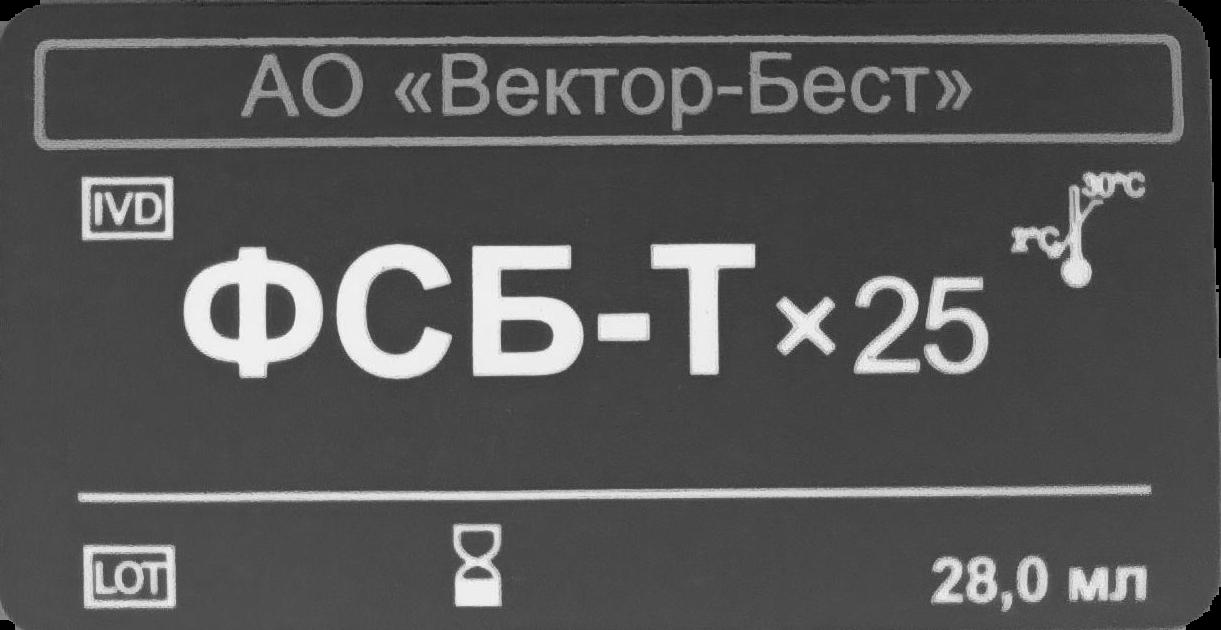something: (1006, 165, 1150, 289), (78, 175, 178, 244), (78, 542, 177, 611), (450, 522, 505, 615)
text: (181, 239, 996, 383), (239, 48, 975, 133), (930, 555, 1150, 609)
